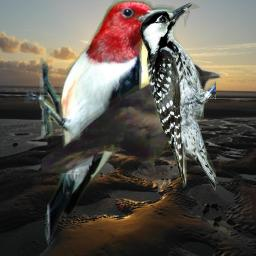Crow: (42, 61, 222, 173)
Woodpecker: (23, 0, 178, 245), (139, 2, 216, 191)
